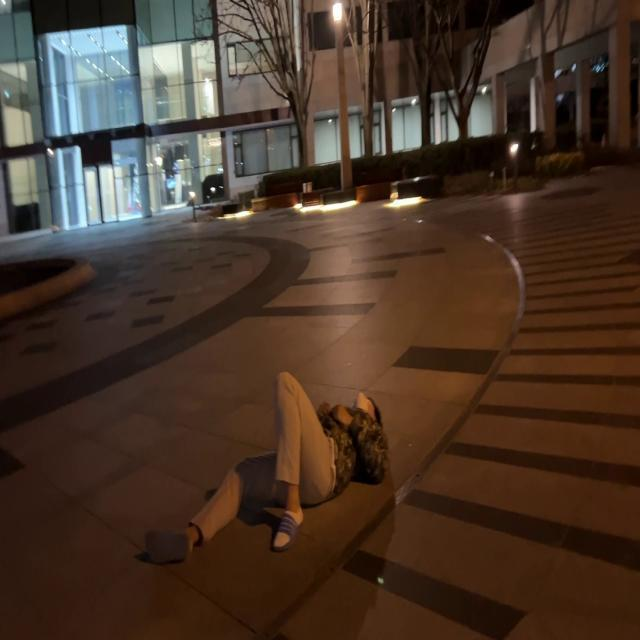Fall: (139, 373, 389, 566)
